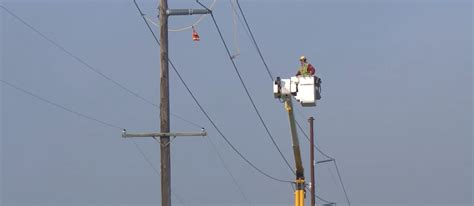pole: (125, 2, 221, 206)
